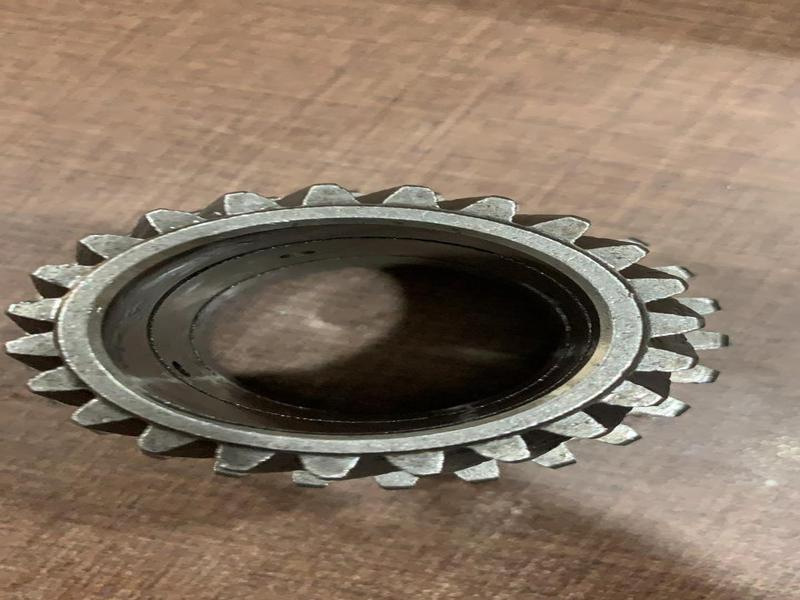engine gear ape: (24, 179, 760, 547)
